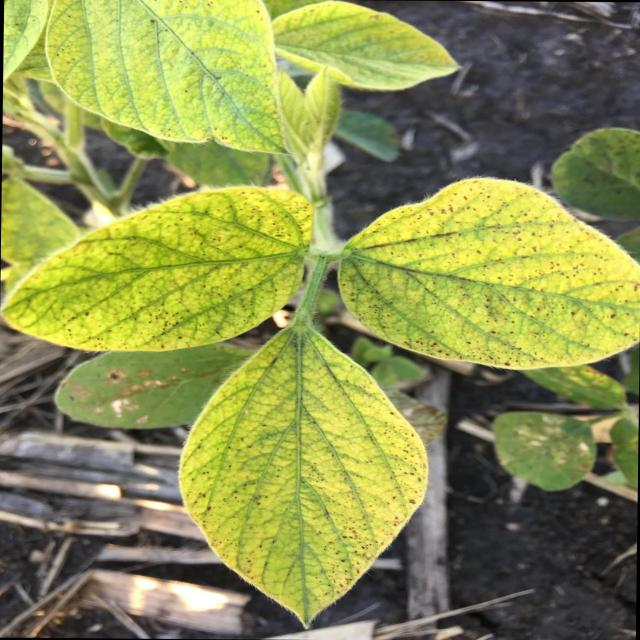Chlorosis: (3, 0, 628, 633)
